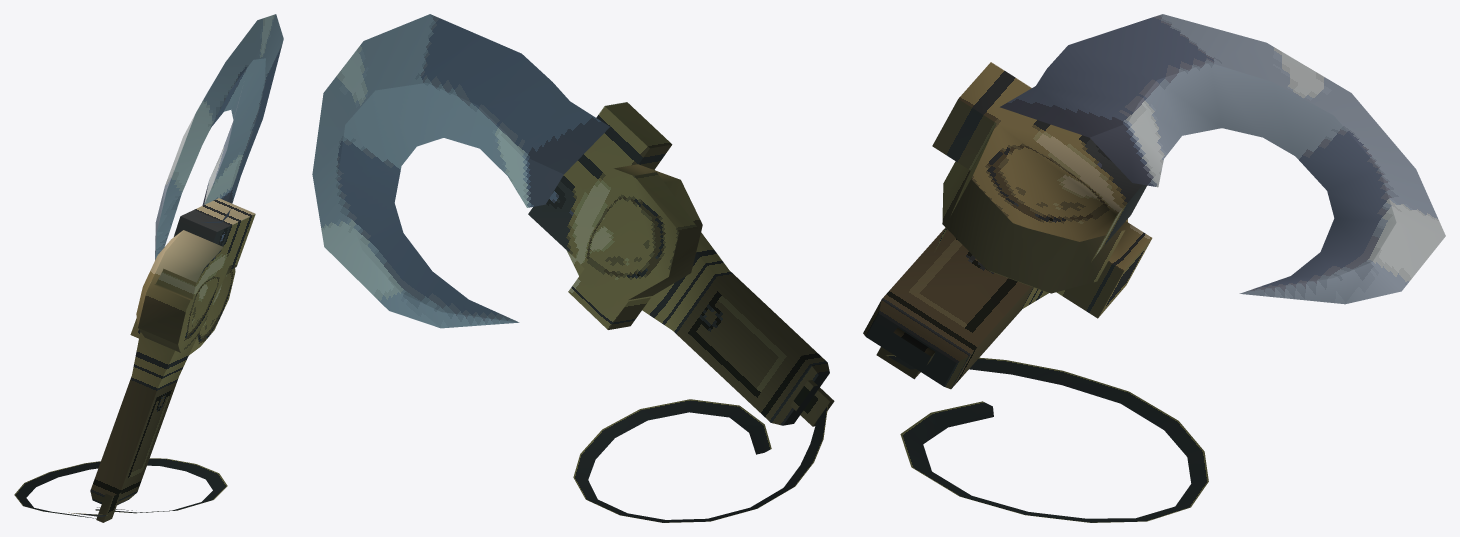
Rendered from ps2_save-icons_erementargerad.glb.
The picture shows the model from 3 angles, left to right: view 1: azimuth 30°, elevation 25°; view 2: azimuth 150°, elevation 25°; view 3: azimuth 270°, elevation 25°; orthographic projection. The views are drawn at different scales.
Visible parts, largest first — view 1: mcicon.ico; view 2: mcicon.ico; view 3: mcicon.ico.
Boxes of the visible parts, left/top/right/bottom form: mcicon.ico: left=14, top=14, right=283, bottom=522; mcicon.ico: left=312, top=14, right=834, bottom=522; mcicon.ico: left=863, top=14, right=1445, bottom=522.
Size of the model in its own units: 4.02 by 4.61 by 3.99.
Materials: 1 (1 with a texture image).
